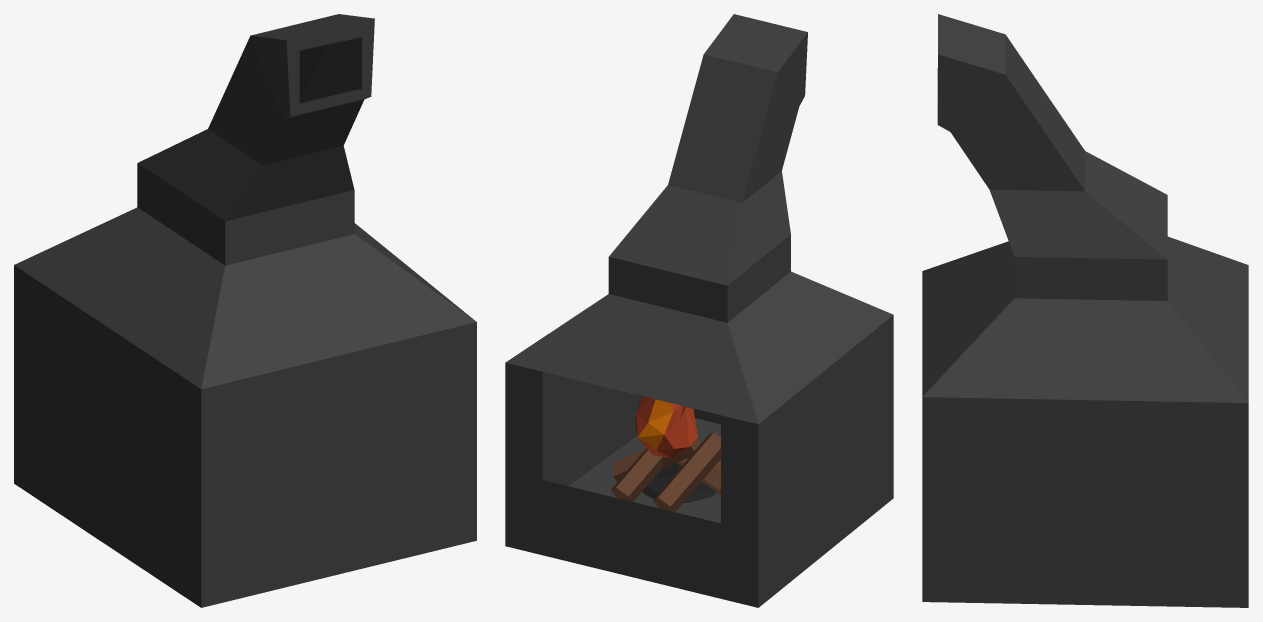
The model's file is fireplaceTile.glb.
3 renders of one model, left to right at view 1: azimuth 30°, elevation 25°; view 2: azimuth 150°, elevation 25°; view 3: azimuth 270°, elevation 25°, orthographic. The views are drawn at different scales.
Visible parts, largest first — view 1: Cube; view 2: Cube; view 3: Cube.
Boxes of the visible parts, box(x1,y1,x2,y2) form: Cube: box(14, 14, 476, 607); Cube: box(505, 14, 893, 607); Cube: box(922, 14, 1248, 607).
Bounding box in the file's own units: 1 × 1.71 × 1.
1 material, 1 textured.
